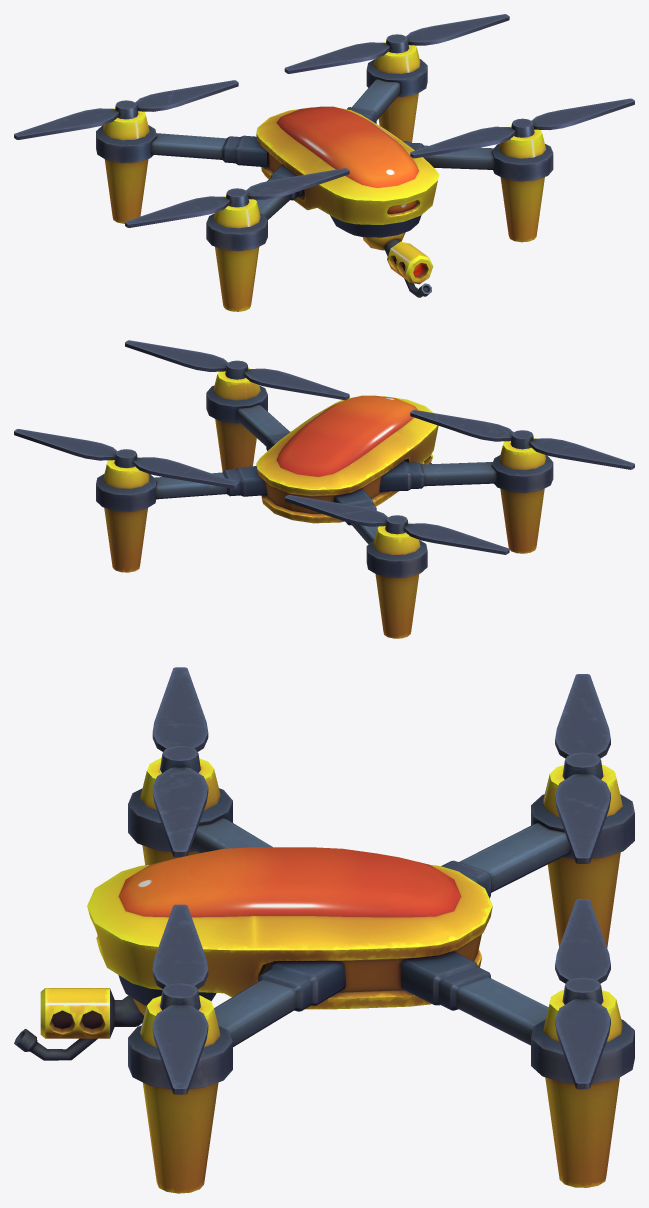
Rendered from drone.fbx.
The picture shows the model from 3 angles, top to bottom: view 1: azimuth 30°, elevation 25°; view 2: azimuth 150°, elevation 25°; view 3: azimuth 270°, elevation 25°; orthographic projection. The views are drawn at different scales.
Parts seen in each view (by area): view 1: Cube.008, Cylinder.057, Cylinder.058, Cylinder.059, Cylinder.055, Sphere.003, Cube.009; view 2: Cube.008, Cylinder.059, Cylinder.055, Cylinder.057, Cylinder.058; view 3: Cube.008, Cylinder.057, Cylinder.055, Cylinder.058, Cylinder.059, Sphere.003.
Part boxes in pixels (x1,y1,x2,y2): Cube.008: (96,41,553,311); Cylinder.057: (410,98,634,158); Cylinder.058: (284,14,509,73); Cylinder.059: (14,80,238,139); Cylinder.055: (125,168,349,227); Sphere.003: (362,232,433,297); Cube.009: (330,215,421,237); Cube.008: (96,368,553,638); Cylinder.059: (284,495,509,554); Cylinder.055: (410,410,634,469); Cylinder.057: (125,340,349,400); Cylinder.058: (14,429,238,488); Cube.008: (87,758,634,1193); Cylinder.057: (152,904,208,1094); Cylinder.055: (152,667,208,857); Cylinder.058: (555,899,610,1089); Cylinder.059: (555,674,610,863); Sphere.003: (14,988,146,1060).
Size of the model in its own units: 911 by 203 by 567.
